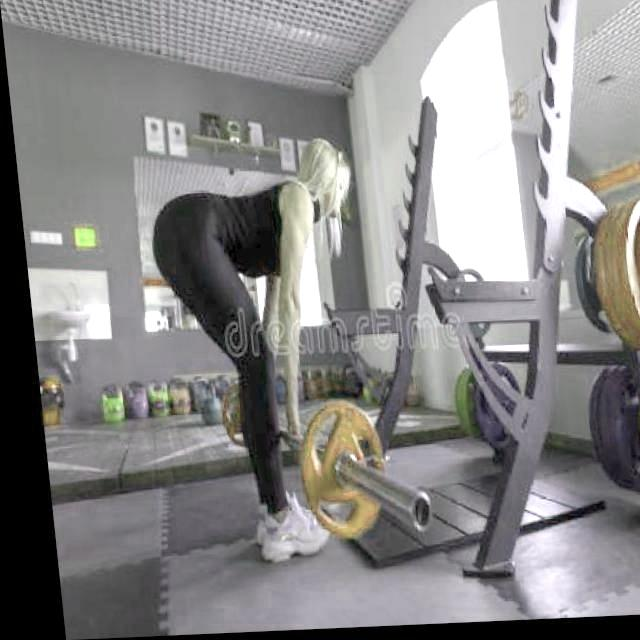barbell: (273, 400, 425, 540)
